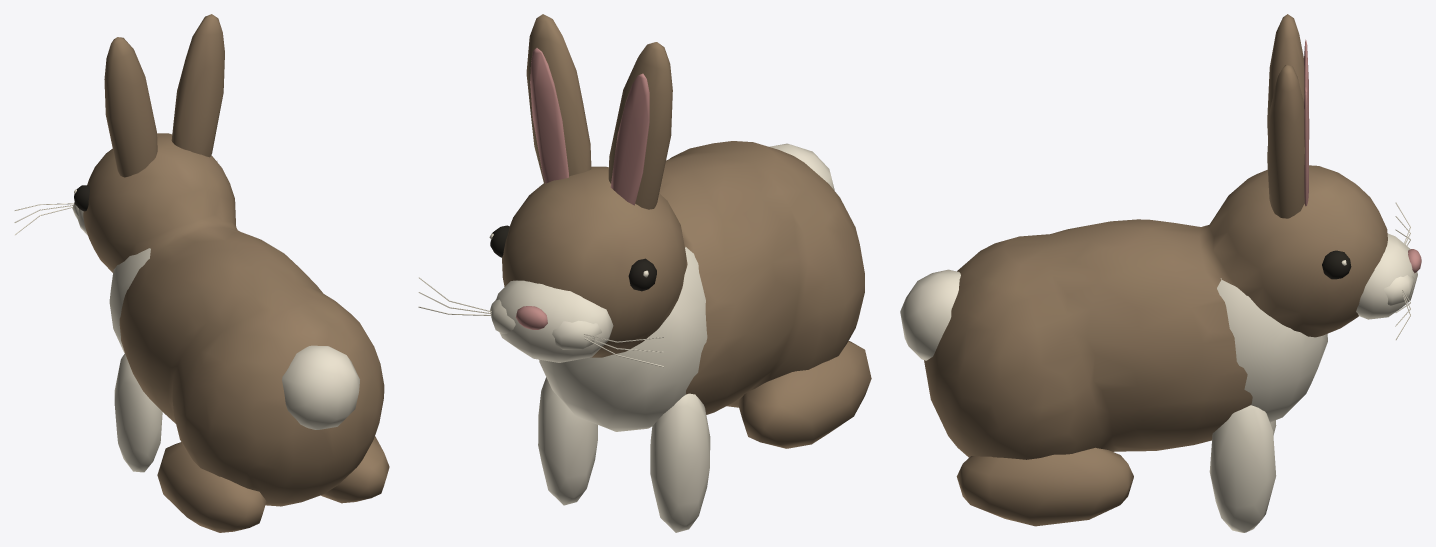
Rendered from rabbit.glb.
The picture shows the model from 3 angles, left to right: view 1: azimuth 30°, elevation 25°; view 2: azimuth 150°, elevation 25°; view 3: azimuth 270°, elevation 25°; orthographic projection. The views are drawn at different scales.
Parts seen in each view (by area): view 1: body, chest, hind_foot, front_foot, hind_foot.001; view 2: body, chest, hind_foot, nose, front_foot, front_foot.001, eye; view 3: body, chest, hind_foot.001, front_foot.001, nose, eye.
Part boxes in pixels (bbox=[...]): body: bbox=[83, 14, 384, 506]; chest: bbox=[14, 161, 359, 429]; hind_foot: bbox=[157, 442, 266, 532]; front_foot: bbox=[114, 354, 162, 472]; hind_foot.001: bbox=[321, 436, 389, 503]; body: bbox=[502, 14, 864, 414]; chest: bbox=[418, 143, 834, 431]; hind_foot: bbox=[738, 341, 871, 448]; nose: bbox=[515, 48, 649, 329]; front_foot: bbox=[650, 393, 710, 532]; front_foot.001: bbox=[538, 377, 597, 505]; eye: bbox=[490, 225, 656, 291]; body: bbox=[924, 14, 1387, 459]; chest: bbox=[900, 202, 1417, 422]; hind_foot.001: bbox=[956, 447, 1133, 526]; front_foot.001: bbox=[1209, 405, 1276, 532]; nose: bbox=[1304, 39, 1421, 273]; eye: bbox=[1322, 250, 1351, 279].
Size of the model in its own units: 0.701 by 1.39 by 1.4.
